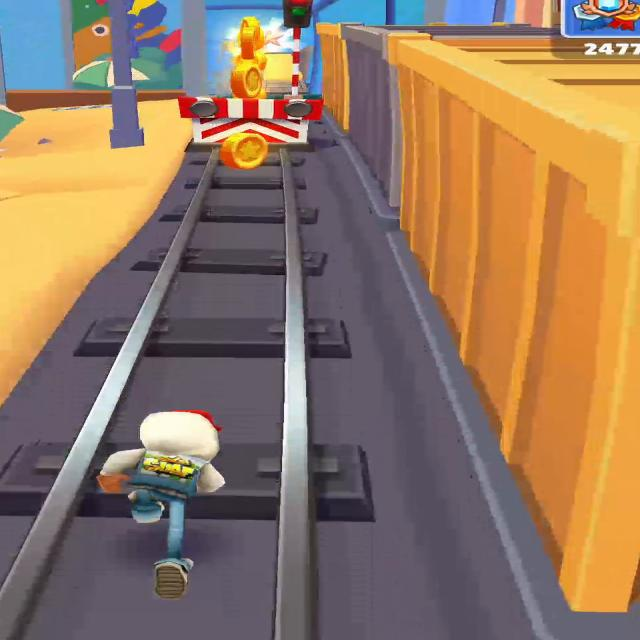climber: (263, 52, 291, 94), (298, 77, 305, 94)
roll blocker: (179, 95, 323, 145)
train: (388, 35, 639, 612), (343, 26, 402, 208), (319, 25, 349, 131)
